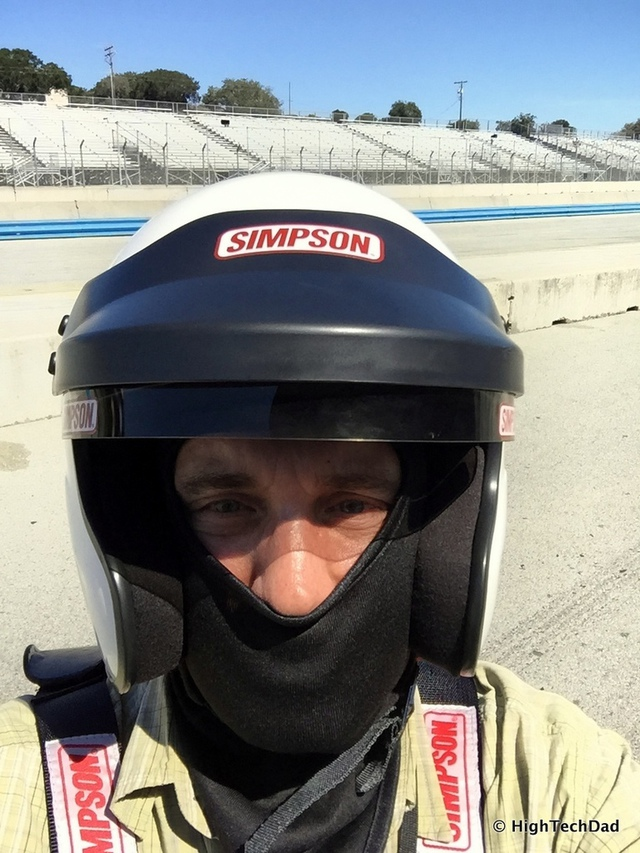helmet: (38, 190, 531, 689)
